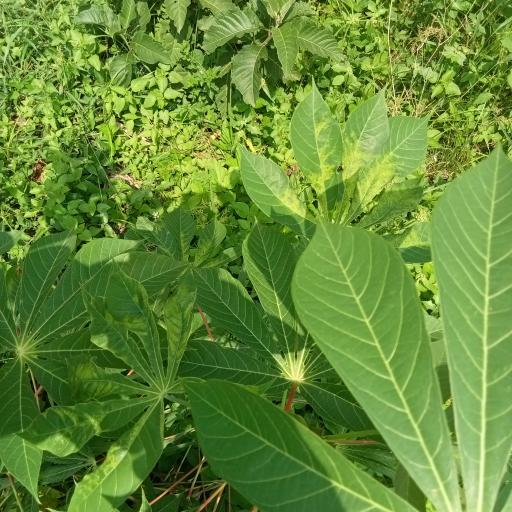Cassava_Healthy: (204, 141, 510, 512), (192, 222, 421, 435), (1, 230, 174, 489), (237, 84, 429, 252)
